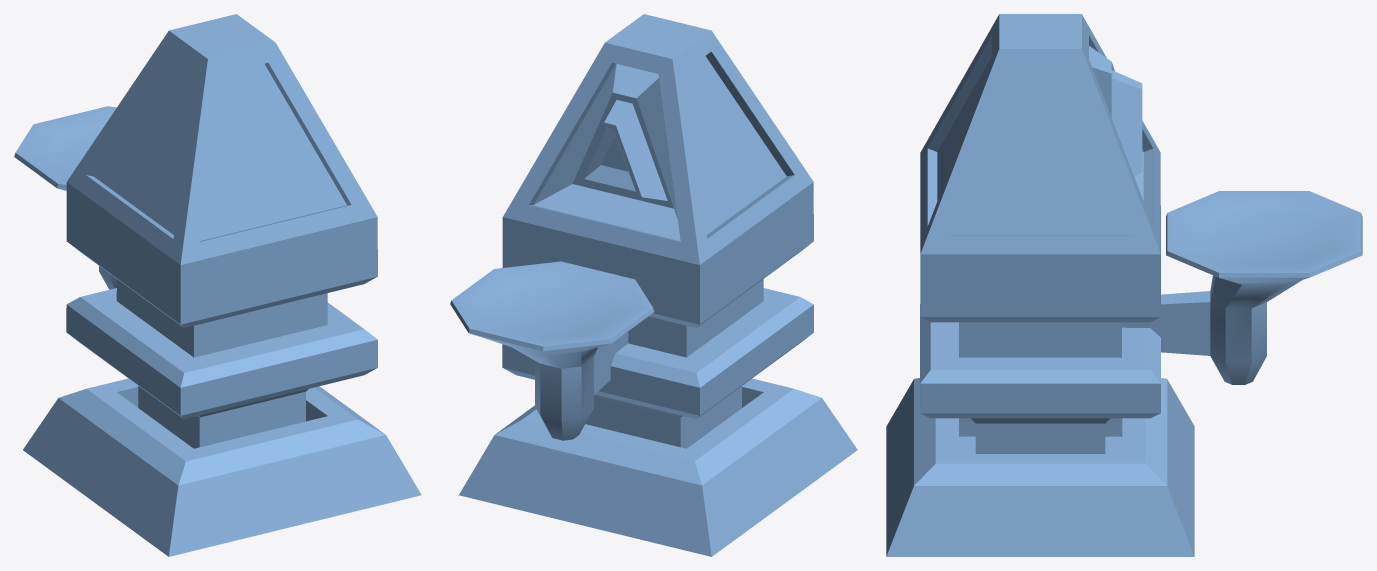
Rendered from flametrap.fbx.
The picture shows the model from 3 angles, left to right: view 1: azimuth 30°, elevation 25°; view 2: azimuth 150°, elevation 25°; view 3: azimuth 270°, elevation 25°; orthographic projection. The views are drawn at different scales.
Visible parts, largest first — view 1: Circle.016, Circle.012; view 2: Circle.016, Circle.012; view 3: Circle.016, Circle.012.
Part boxes in pixels (x1,y1,x2,y2): Circle.016: [14, 14, 377, 448]; Circle.012: [23, 378, 421, 556]; Circle.016: [450, 14, 813, 448]; Circle.012: [459, 378, 857, 556]; Circle.016: [920, 14, 1362, 453]; Circle.012: [886, 378, 1194, 556].
Bounding box in the file's own units: 0.8929 × 1.47 × 1.38.
